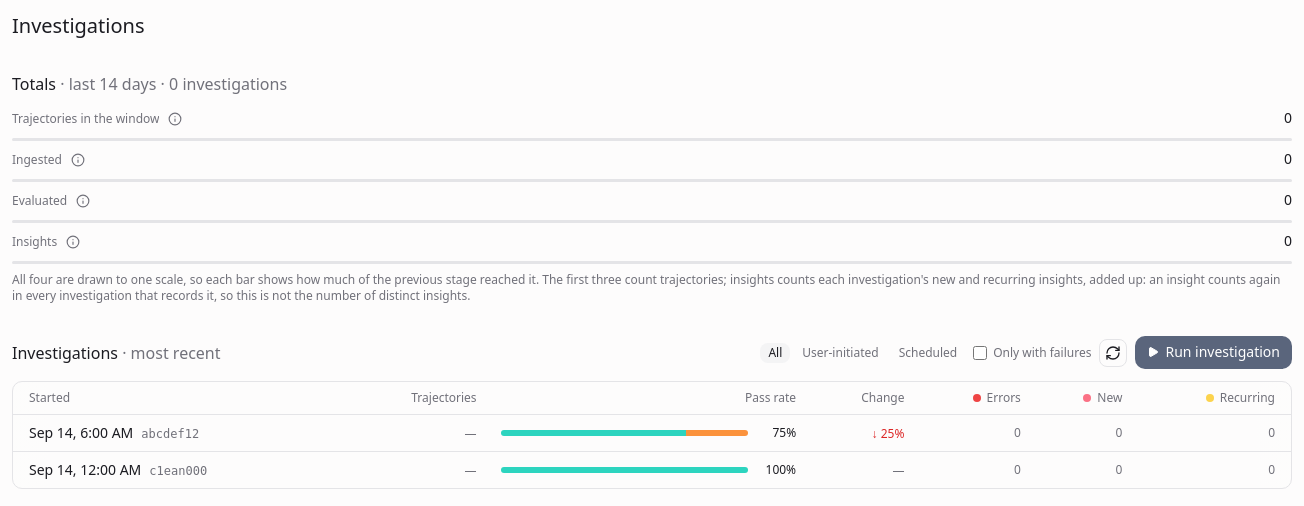
the runs table's counters › compares a failing run with the clean one before it, which the filter hides
Expected: the link "c1ean000" is shown, [149,463,207,479]
Click the checkbox labelled "Only with failures" at (980, 352), box [973,346,987,360]
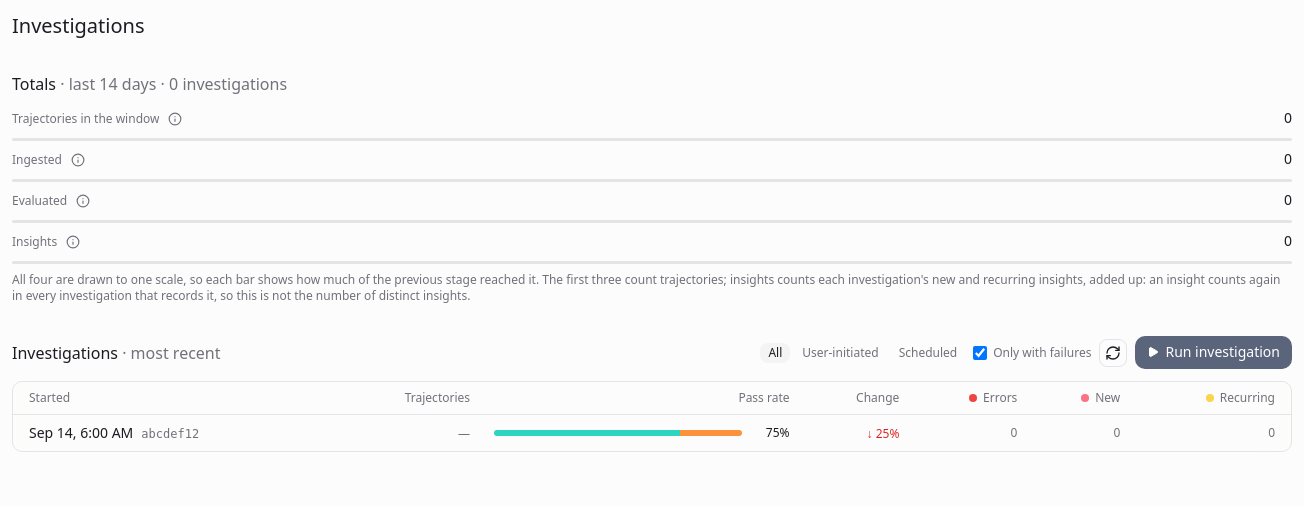
Now the link "c1ean000" is gone
